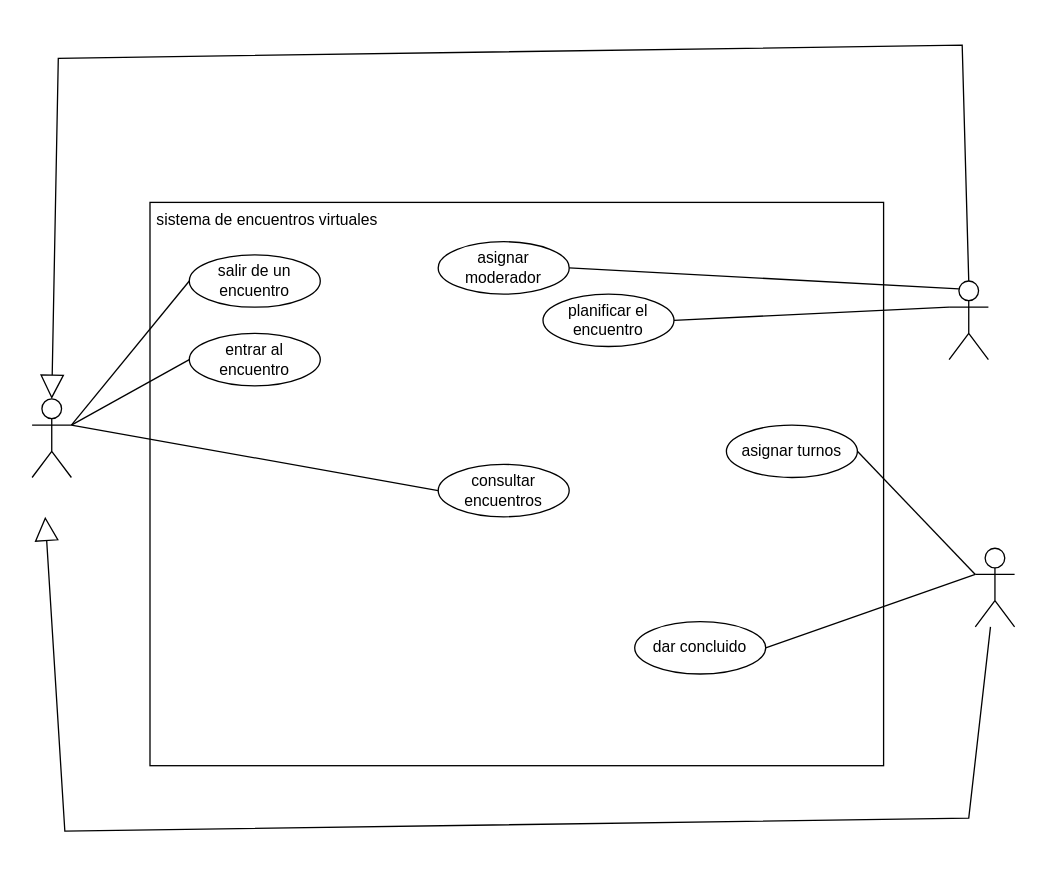
The diagram is 1056 pixels wide and 878 high, and some of its shapes have lost their labels. Here are the shapes that lost their labels. From the top down, the centre of each, then its label:
At pixel 968 320: "Manager".
At pixel 51 437: "Usuario".
At pixel 994 587: "Moderador".
